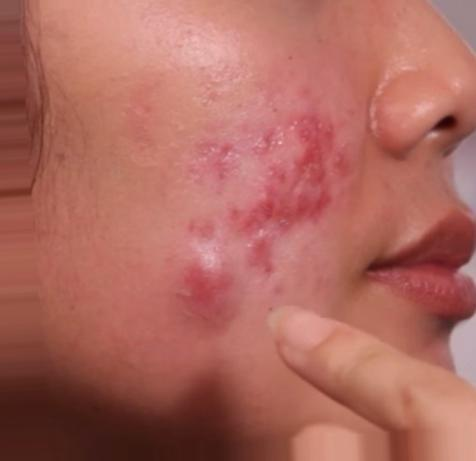Acne: (229, 169, 345, 237), (176, 229, 252, 311), (296, 112, 357, 152)
